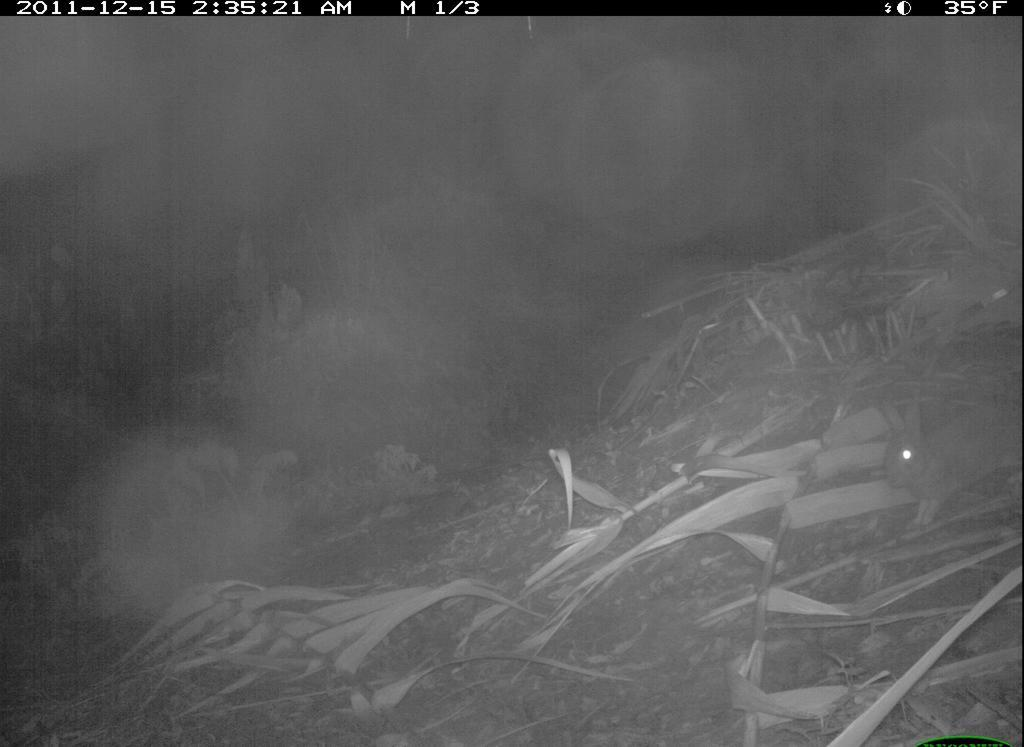rabbit: (865, 380, 1023, 527)
